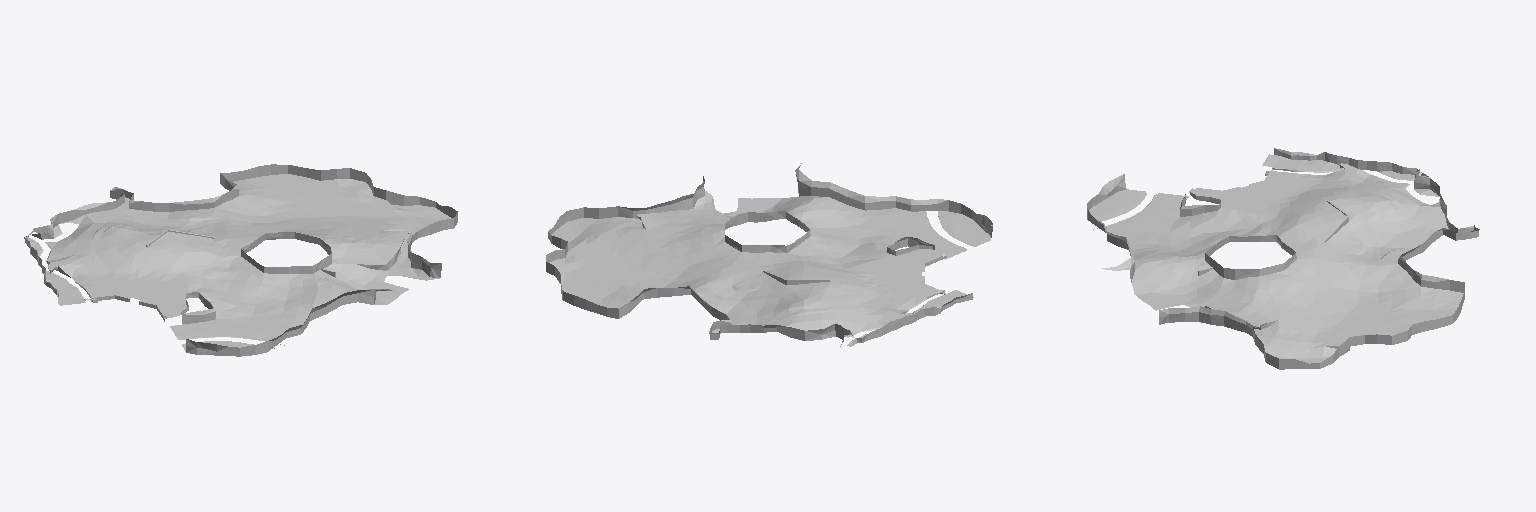
The model's file is field.obj.
3 views of the same model, side by side, from view 1: azimuth 30°, elevation 25°; view 2: azimuth 150°, elevation 25°; view 3: azimuth 270°, elevation 25° (orthographic).
Parts seen in each view (by area): view 1: field; view 2: field; view 3: field.
Boxes of the visible parts, x1,y1,x2,y2 form: field: [24, 164, 457, 356]; field: [546, 163, 992, 346]; field: [1087, 148, 1479, 369].
Bounding box in the file's own units: 164 × 11.84 × 141.